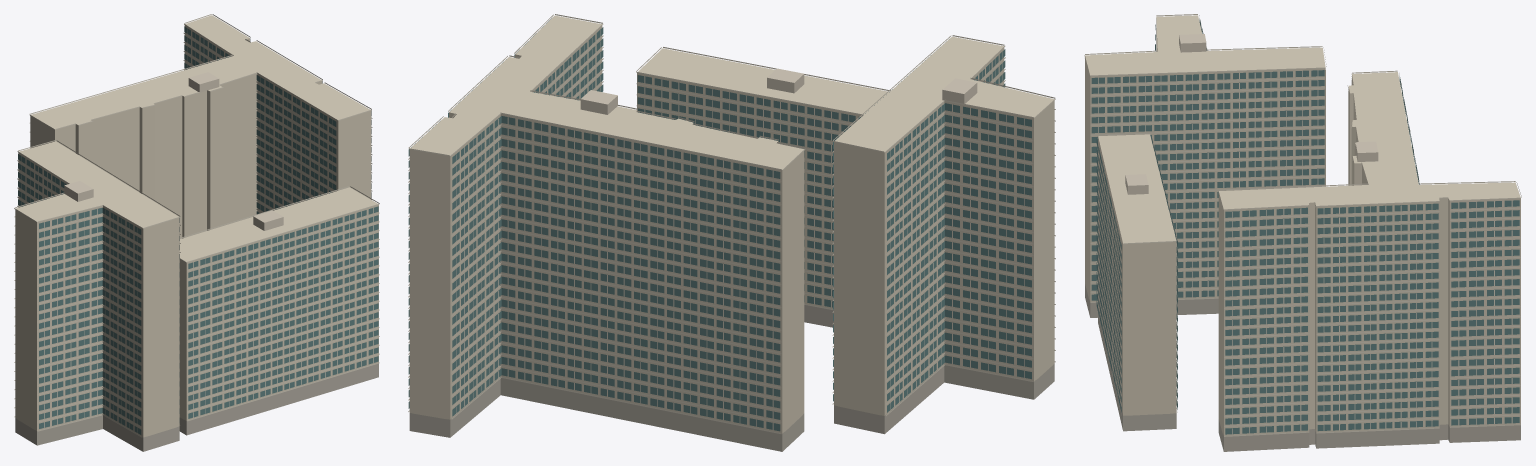
File: representative-a11054101.glb
3 views of the same model, side by side, from view 1: azimuth 30°, elevation 25°; view 2: azimuth 150°, elevation 25°; view 3: azimuth 270°, elevation 25° (orthographic). The views are drawn at different scales.
Visible parts, largest first — view 1: A11054101_wall001, A11054101_glass001, A11054101_trim001, A11054101_base001, A11054101_roof001; view 2: A11054101_wall001, A11054101_glass001, A11054101_trim001, A11054101_base001, A11054101_roof001; view 3: A11054101_wall001, A11054101_glass001, A11054101_trim001, A11054101_base001, A11054101_roof001.
Part boxes in pixels (left/top/right/bottom): A11054101_wall001: left=15, top=15, right=378, bottom=437; A11054101_glass001: left=18, top=26, right=378, bottom=434; A11054101_trim001: left=14, top=14, right=379, bottom=437; A11054101_base001: left=15, top=363, right=378, bottom=451; A11054101_roof001: left=64, top=72, right=283, bottom=230; A11054101_wall001: left=409, top=15, right=1054, bottom=433; A11054101_glass001: left=408, top=18, right=1031, bottom=431; A11054101_trim001: left=408, top=14, right=1055, bottom=434; A11054101_base001: left=409, top=305, right=1054, bottom=451; A11054101_roof001: left=580, top=68, right=977, bottom=114; A11054101_wall001: left=1085, top=15, right=1520, bottom=435; A11054101_glass001: left=1091, top=19, right=1519, bottom=434; A11054101_trim001: left=1084, top=14, right=1521, bottom=436; A11054101_base001: left=1085, top=284, right=1520, bottom=451; A11054101_roof001: left=1125, top=34, right=1378, bottom=194.
Size of the model in its own units: 107 by 64.3 by 102.
